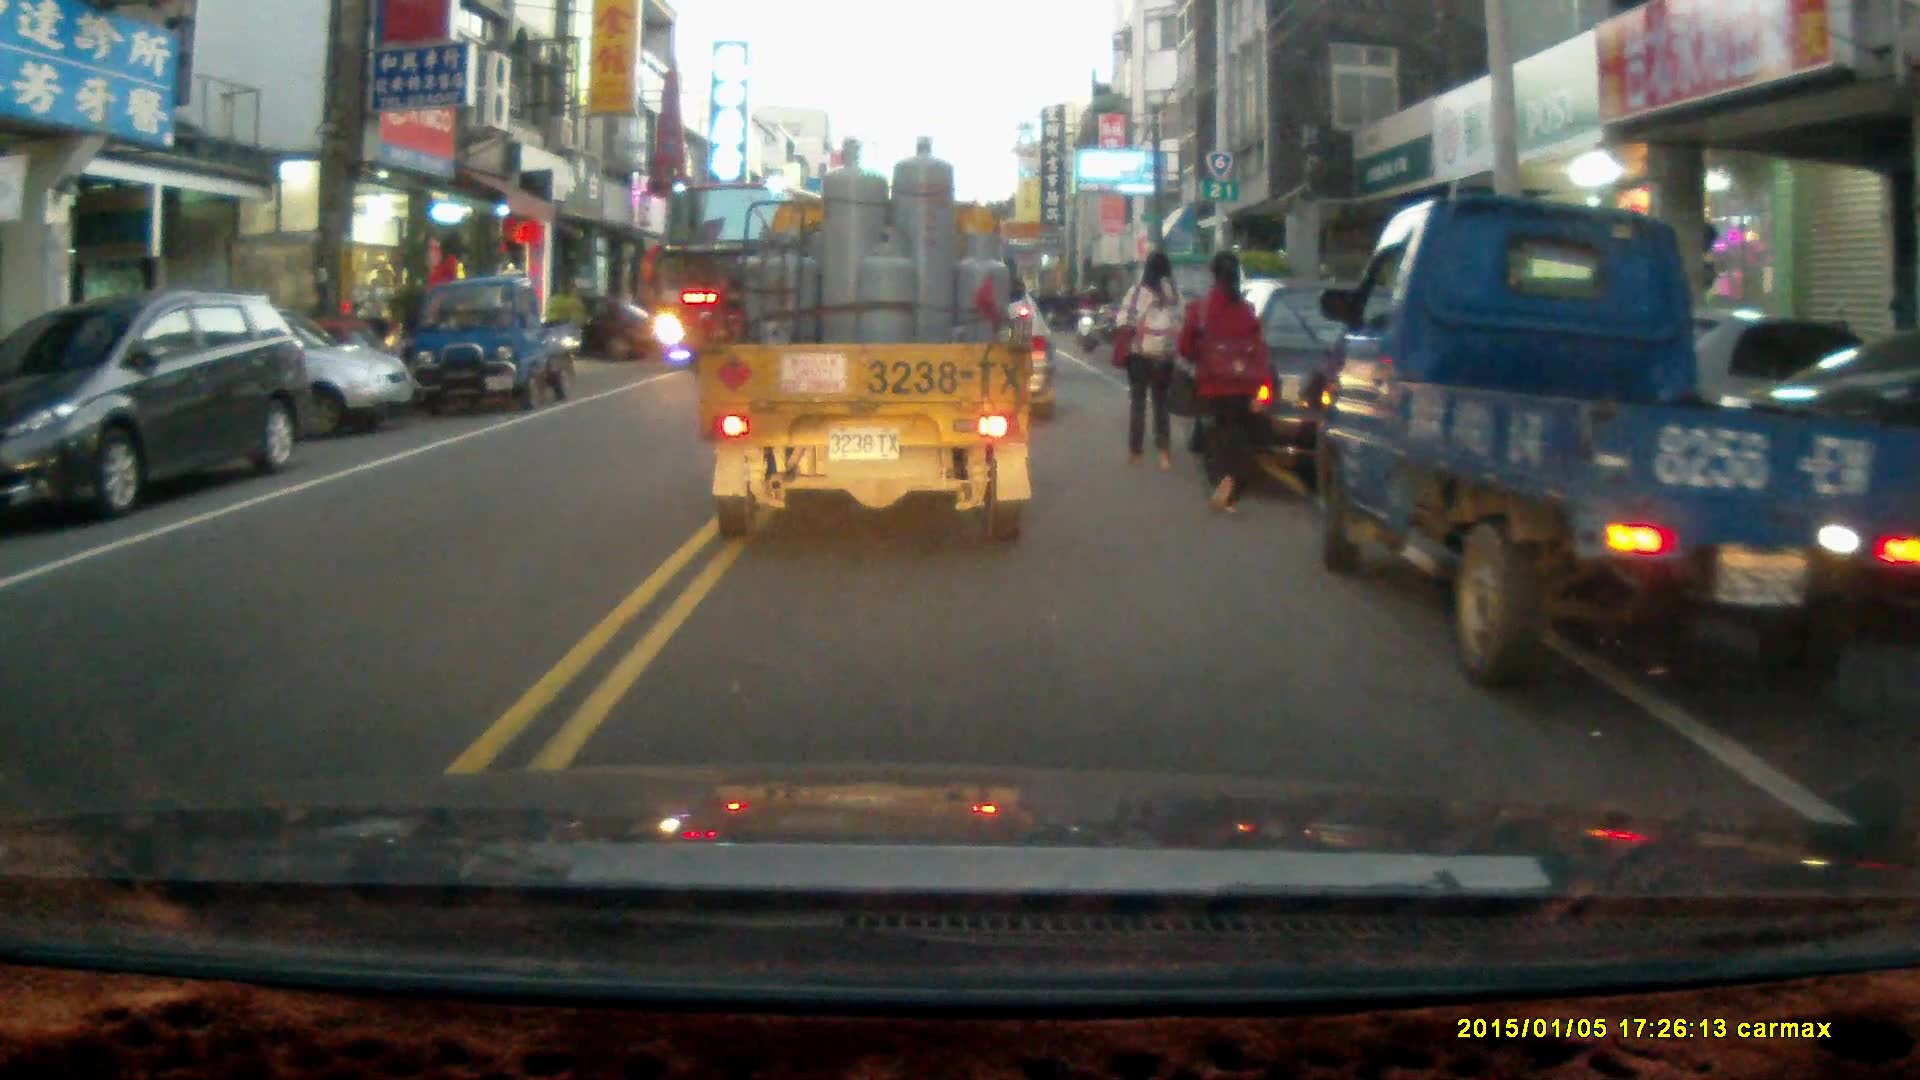pedestrian: (1172, 251, 1276, 516), (1109, 250, 1186, 472)
rider: (1073, 279, 1107, 349)
vehicle: (1319, 187, 1920, 705), (695, 128, 1039, 545), (3, 286, 308, 523), (1193, 277, 1474, 502), (102, 298, 421, 443), (649, 177, 880, 371), (411, 275, 574, 411)
